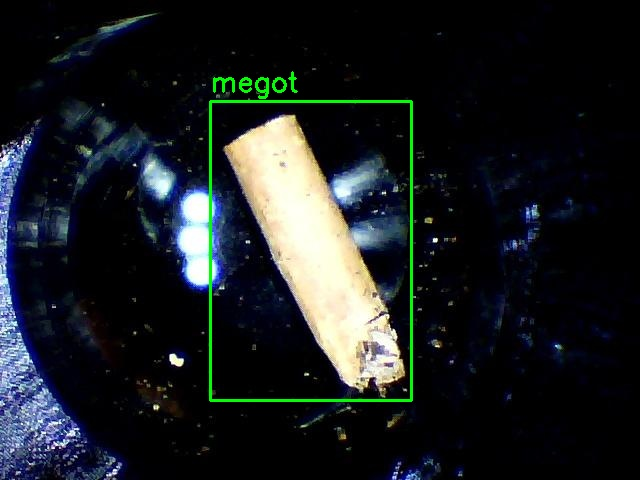megot: (210, 101, 411, 400)
